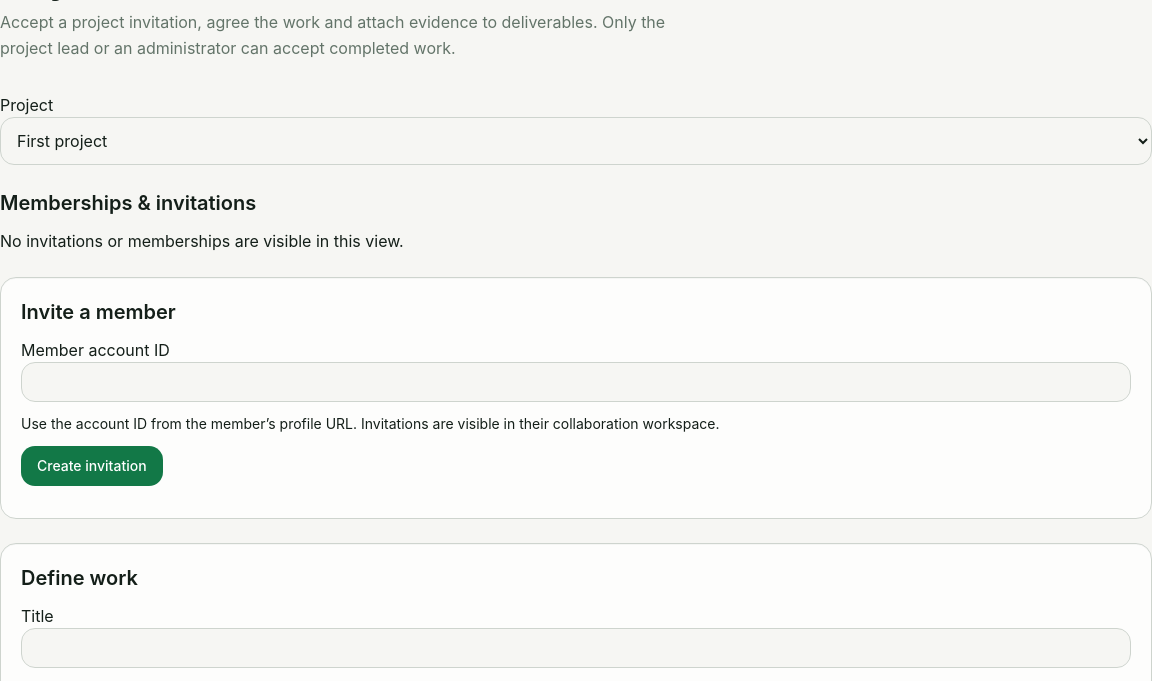
Test: collaboration task creation › preserves the complete newer draft when only its scheduling fields change
Type "Audit the baseline" into the field labelled "Title".
click(576, 648); type("Audit the baseline")  # box [21,628,1131,668]
(page scrolled)
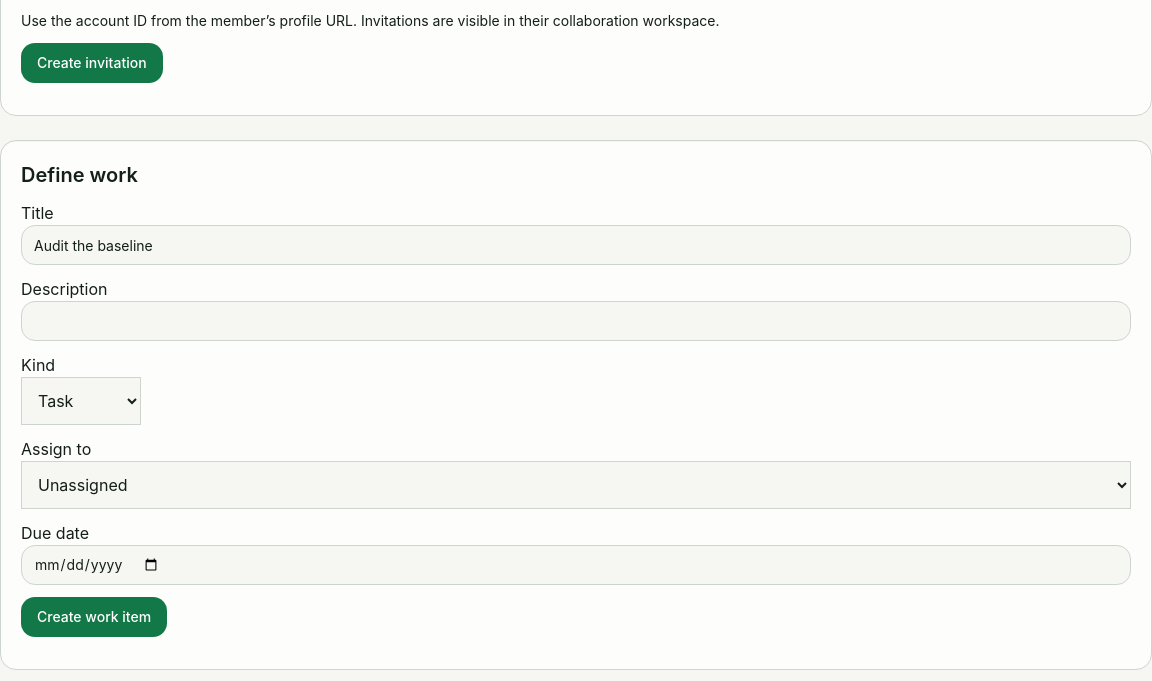
Type "Check timestamps and a frozen split" into the field labelled "Description".
click(576, 321); type("Check timestamps and a frozen split")  # box [21,301,1131,341]
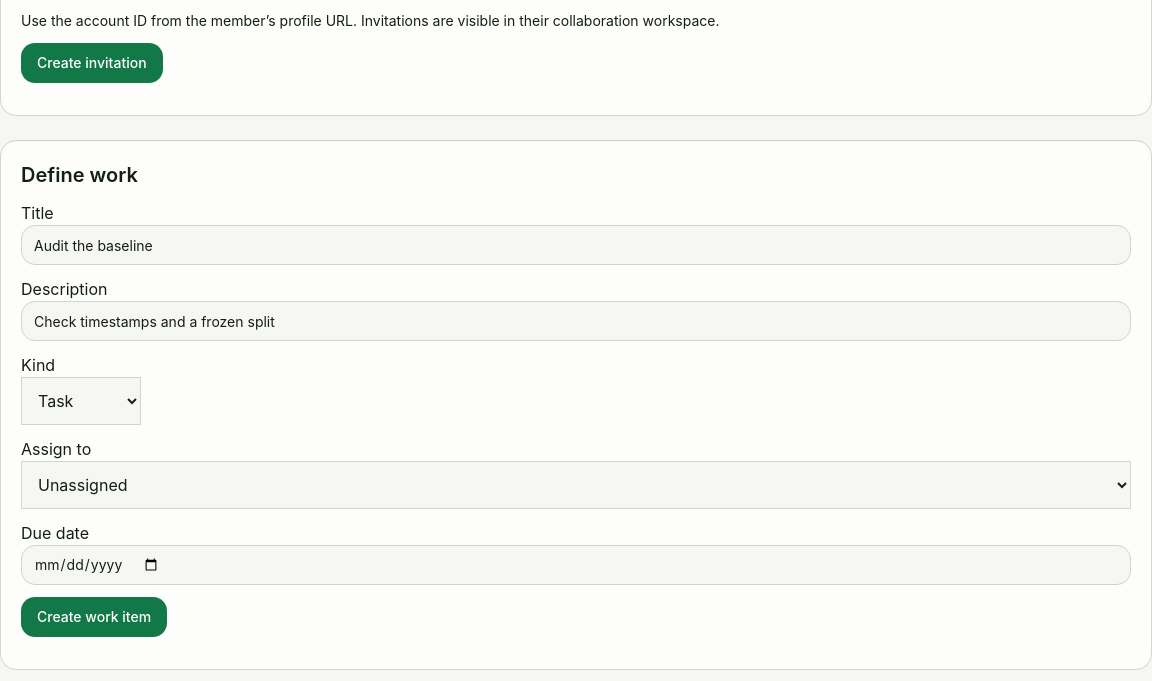
Click the button "Create work item".
click(94, 617)  # box [21,597,167,637]
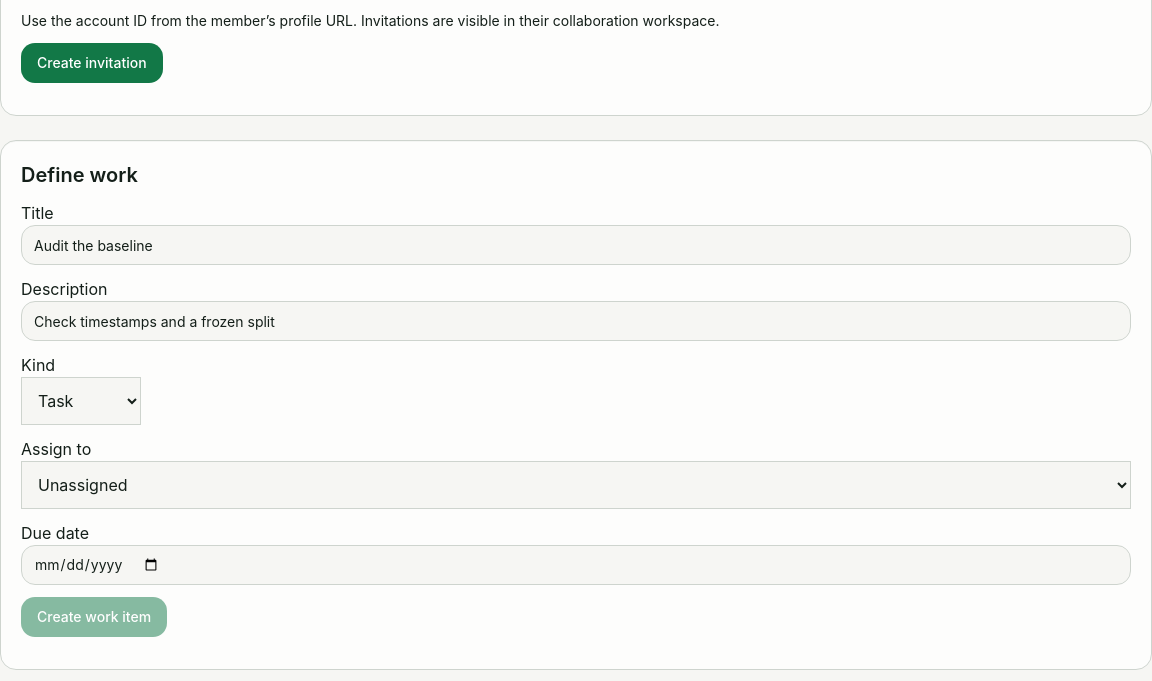
Type "2026-10-20" into the date field labelled "Due date".
click(576, 565); type("2026-10-20")  # box [21,545,1131,585]
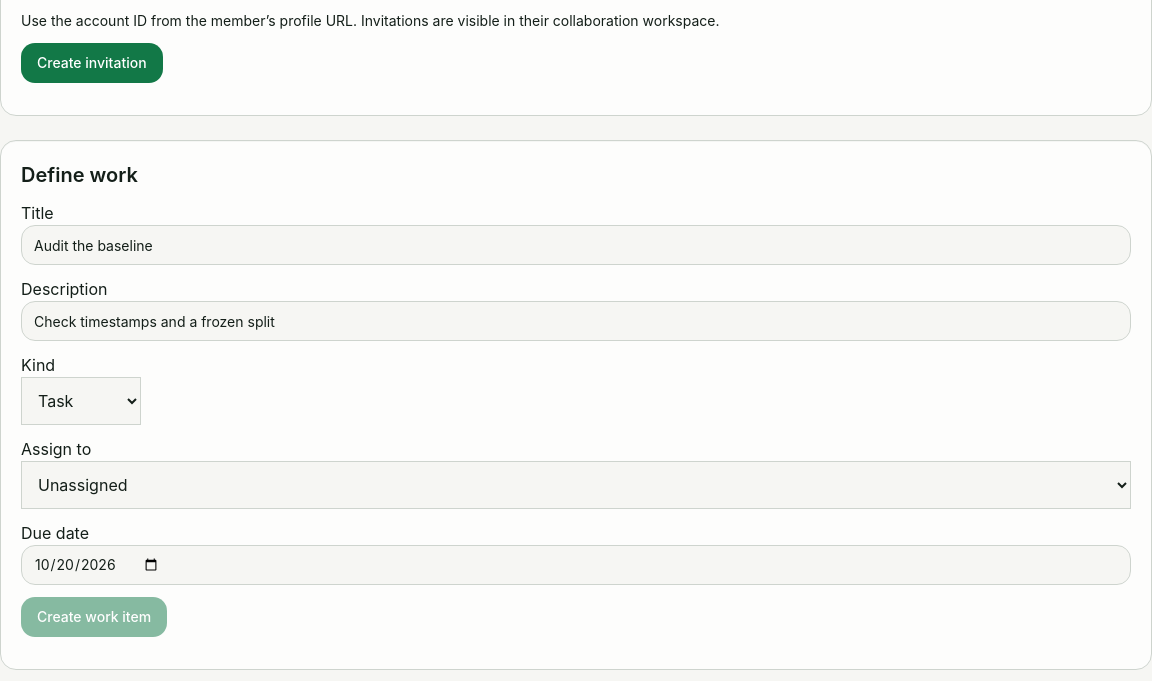
Select "Milestone" in the dropdown labelled "Kind" at (81,401), box [21,377,141,425]
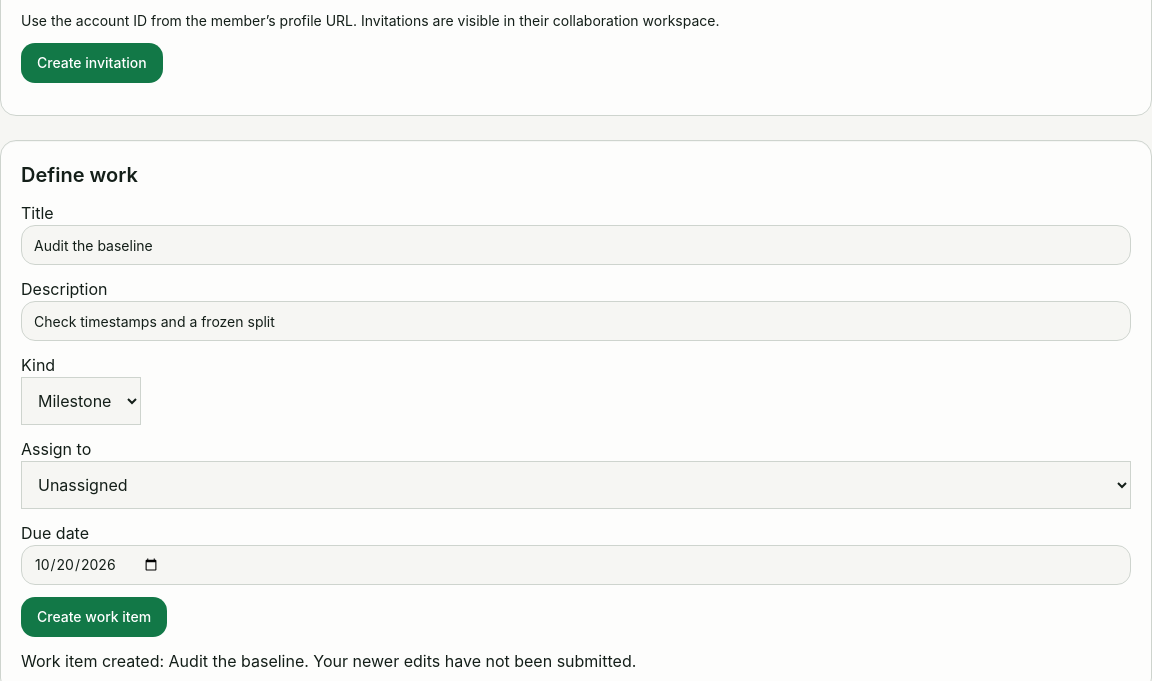
Expected: the text "Work item created" is shown, [21,651,636,671]
